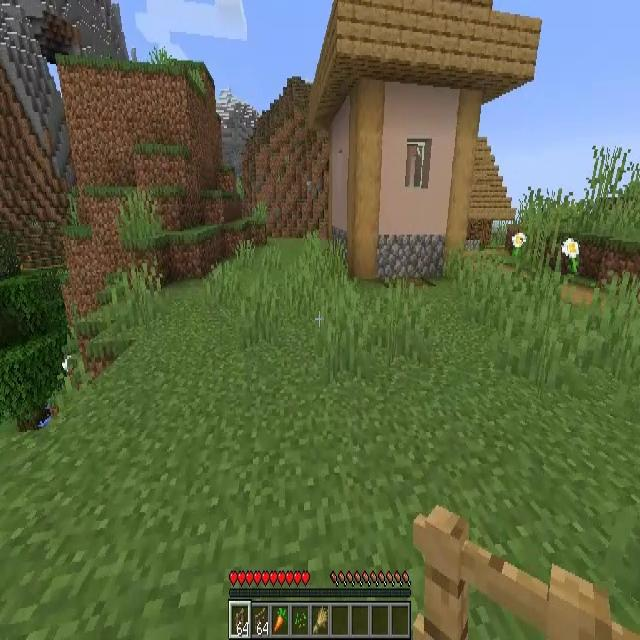flower: (562, 238, 580, 275), (512, 232, 526, 261)
